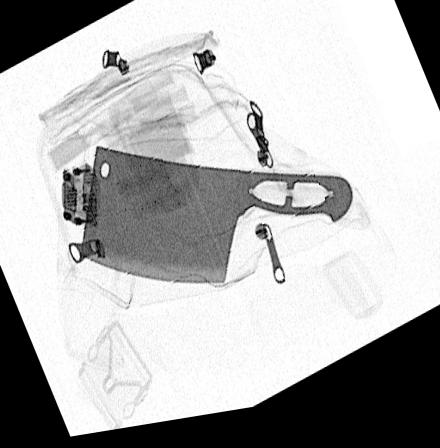Knife: (80, 146, 355, 293)
